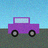vehicle: (8, 17, 39, 37)
